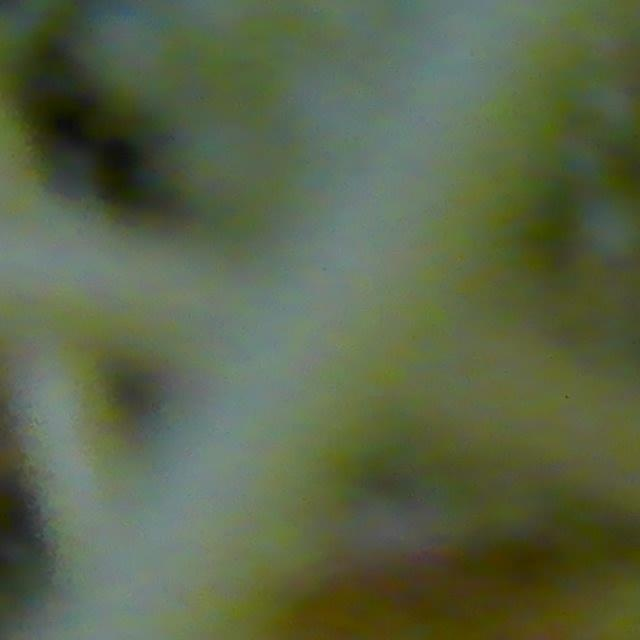SeaGrape: (575, 191, 640, 267)
